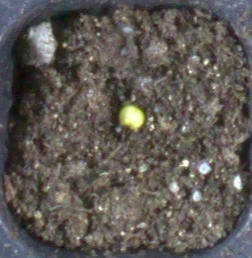chilli seed: (119, 105, 145, 130)
